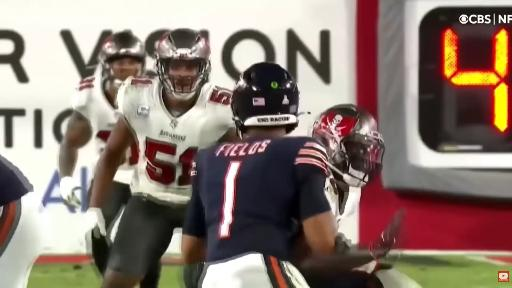Helmet: (309, 104, 384, 187), (232, 63, 299, 133), (154, 29, 210, 99), (99, 30, 145, 86)
Jersey: (184, 137, 330, 261), (117, 78, 234, 203), (72, 70, 119, 166), (0, 156, 33, 208)
Player: (88, 29, 237, 287), (182, 63, 335, 287), (59, 30, 146, 207), (310, 104, 384, 249), (0, 156, 45, 287)
